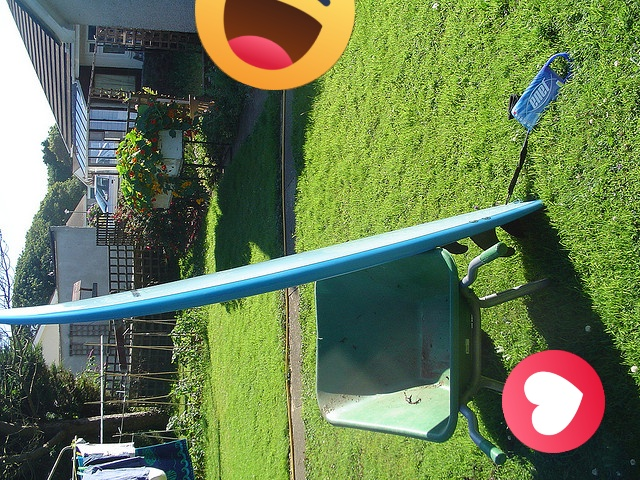haha: (195, 0, 355, 90)
love: (502, 350, 605, 453)
